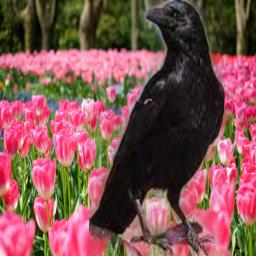Crow: (89, 0, 225, 256)
